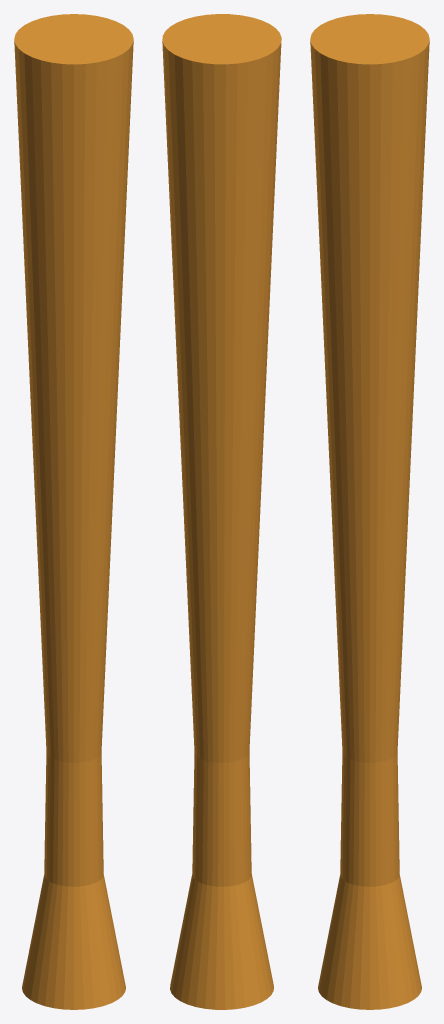
The model's file is Bat.obj.
3 renders of one model, left to right at view 1: azimuth 90°, elevation 25°; view 2: azimuth 150°, elevation 25°; view 3: azimuth 270°, elevation 25°, orthographic.
Parts seen in each view (by area): view 1: 円柱; view 2: 円柱; view 3: 円柱.
Boxes of the visible parts, bbox=[...] form: 円柱: bbox=[14, 14, 133, 1009]; 円柱: bbox=[162, 14, 281, 1009]; 円柱: bbox=[310, 14, 429, 1009].
Bounding box in the file's own units: 0.3259 × 2.85 × 0.3259.
1 material, 1 textured.
